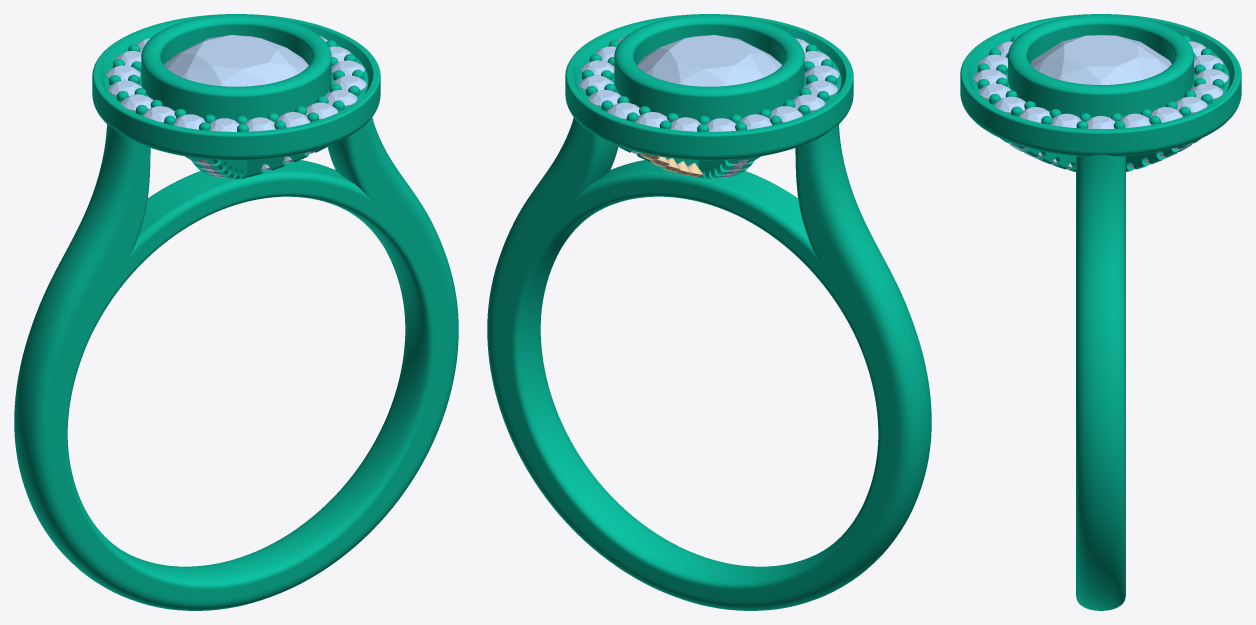
The picture shows the model from 3 angles, left to right: view 1: azimuth 30°, elevation 25°; view 2: azimuth 150°, elevation 25°; view 3: azimuth 270°, elevation 25°; orthographic projection. The views are drawn at different scales.
Visible parts, largest first — view 1: JTC-11024(front).3dm, Diamond_Round; view 2: JTC-11024(front).3dm, Diamond_Round; view 3: JTC-11024(front).3dm, Diamond_Round.
Part boxes in pixels (x1,y1,x2,y2): JTC-11024(front).3dm: [14, 14, 458, 610]; Diamond_Round: [164, 35, 308, 86]; JTC-11024(front).3dm: [487, 14, 931, 610]; Diamond_Round: [637, 35, 781, 86]; JTC-11024(front).3dm: [960, 14, 1241, 610]; Diamond_Round: [1030, 35, 1171, 84].
Size of the model in its own units: 2.39 by 2.9 by 1.38.
